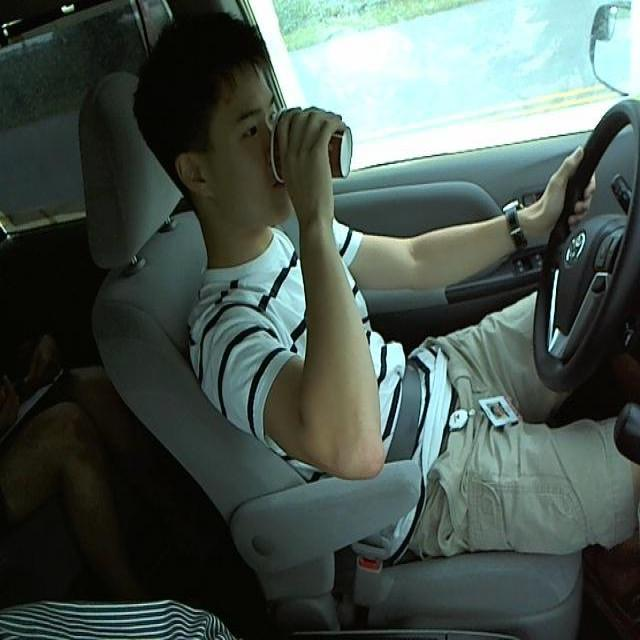drinking: (271, 98, 356, 188)
